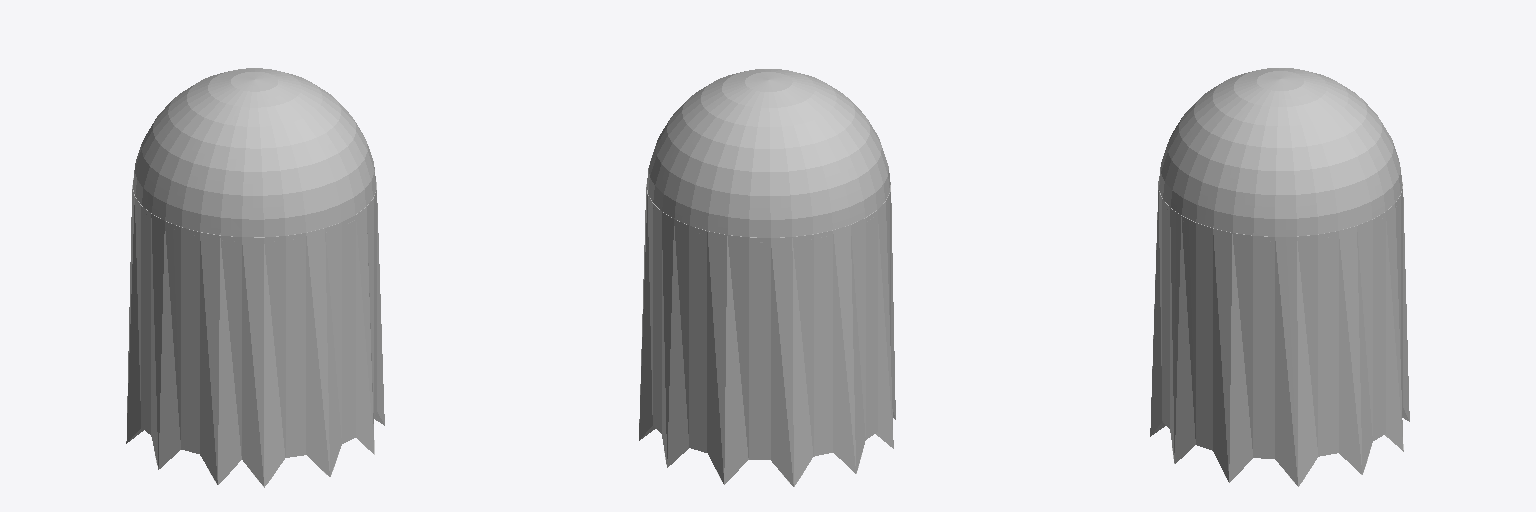
File: Player.obj
3 views of the same model, side by side, from view 1: azimuth 30°, elevation 25°; view 2: azimuth 150°, elevation 25°; view 3: azimuth 270°, elevation 25° (orthographic).
Visible parts, largest first — view 1: Sphere; view 2: Sphere; view 3: Sphere.
Boxes of the visible parts, x1,y1,x2,y2 form: Sphere: [126, 68, 384, 487]; Sphere: [639, 69, 895, 486]; Sphere: [1150, 68, 1409, 486].
Bounding box in the file's own units: 2.1 × 3.18 × 2.12.